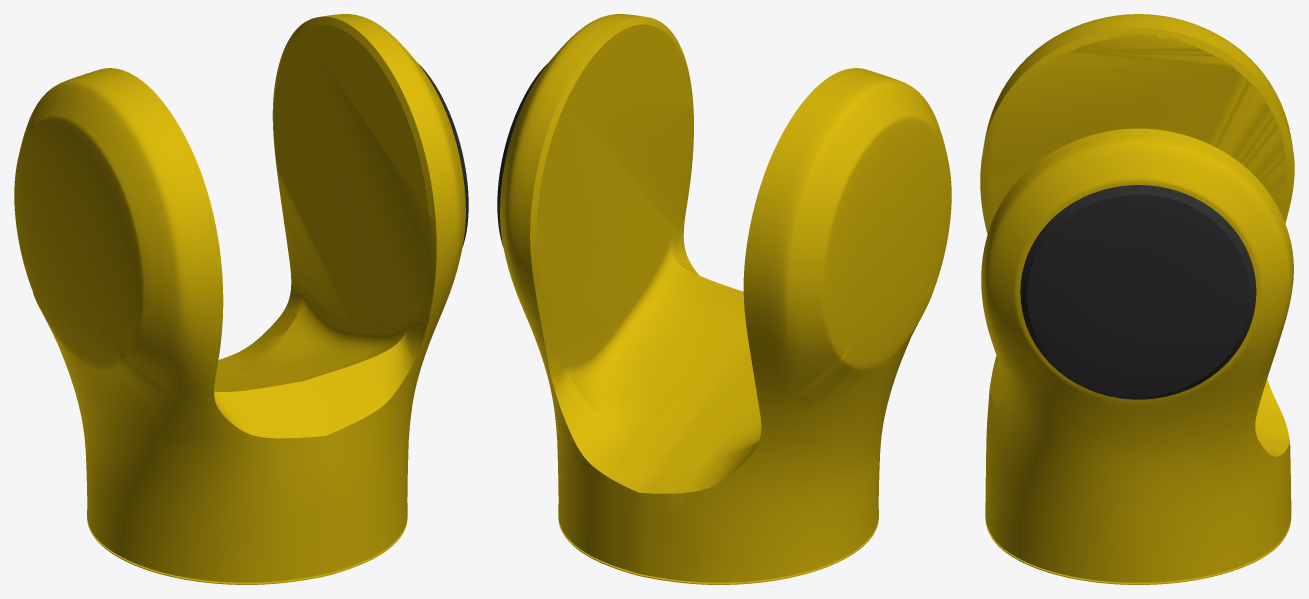
File: shoulder_roll_r_j2_link.glb
3 renders of one model, left to right at view 1: azimuth 30°, elevation 25°; view 2: azimuth 150°, elevation 25°; view 3: azimuth 270°, elevation 25°, orthographic. The views are drawn at different scales.
Visible parts, largest first — view 1: Mesh_0.029; view 2: Mesh_0.029; view 3: Mesh_0.029.
Boxes of the visible parts, <box> form: Mesh_0.029: <box>14,14,468,584</box>; Mesh_0.029: <box>497,14,951,584</box>; Mesh_0.029: <box>980,14,1294,584</box>.
Size of the model in its own units: 0.1184 by 0.1533 by 0.0988.
